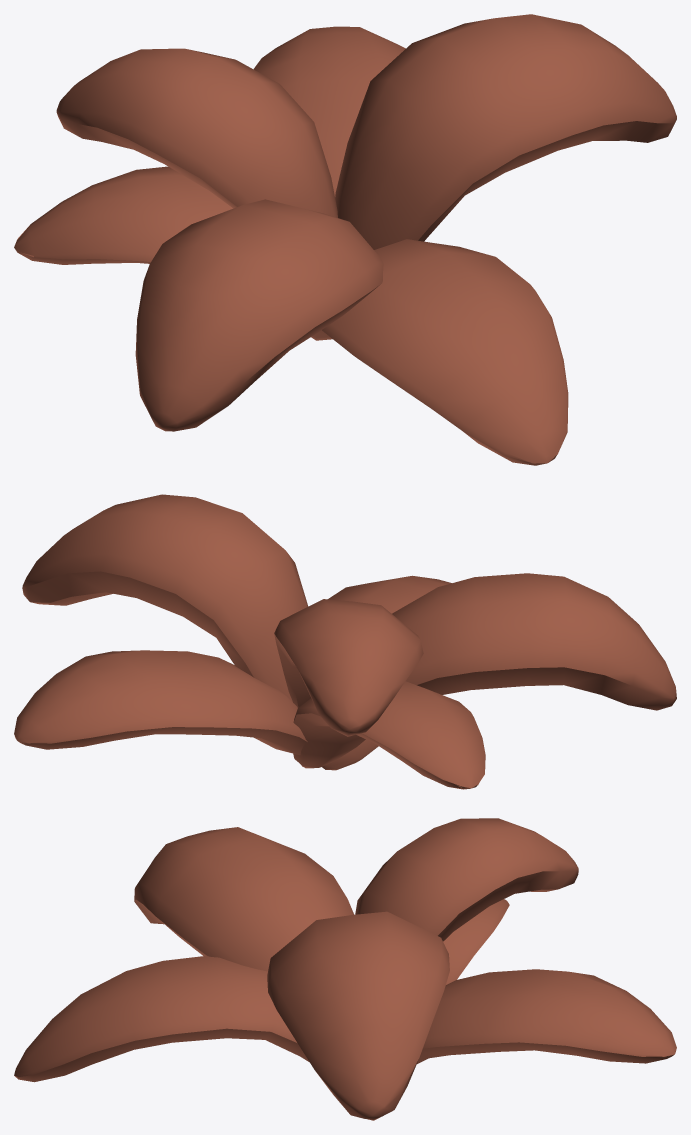
File: plantA_desert-col.glb
3 views of the same model, one above another, from view 1: azimuth 30°, elevation 25°; view 2: azimuth 150°, elevation 25°; view 3: azimuth 270°, elevation 25° (orthographic). The views are drawn at different scales.
Parts seen in each view (by area): view 1: plantA_desert-col; view 2: plantA_desert-col; view 3: plantA_desert-col.
Part boxes in pixels (x1,y1,x2,y2): plantA_desert-col: (14, 14, 676, 465); plantA_desert-col: (14, 494, 676, 789); plantA_desert-col: (14, 818, 676, 1120).
Bounding box in the file's own units: 0.6713 × 0.2624 × 0.695.
